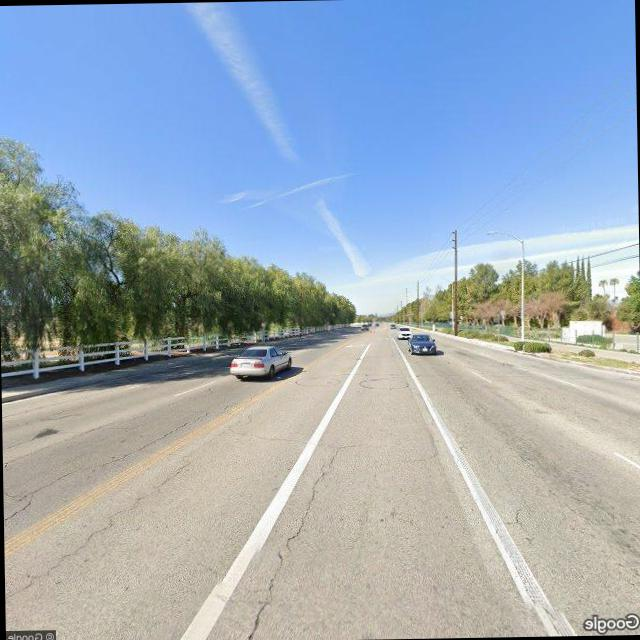crack: (4, 456, 205, 610), (3, 404, 222, 514), (228, 443, 350, 640), (231, 426, 307, 444)
